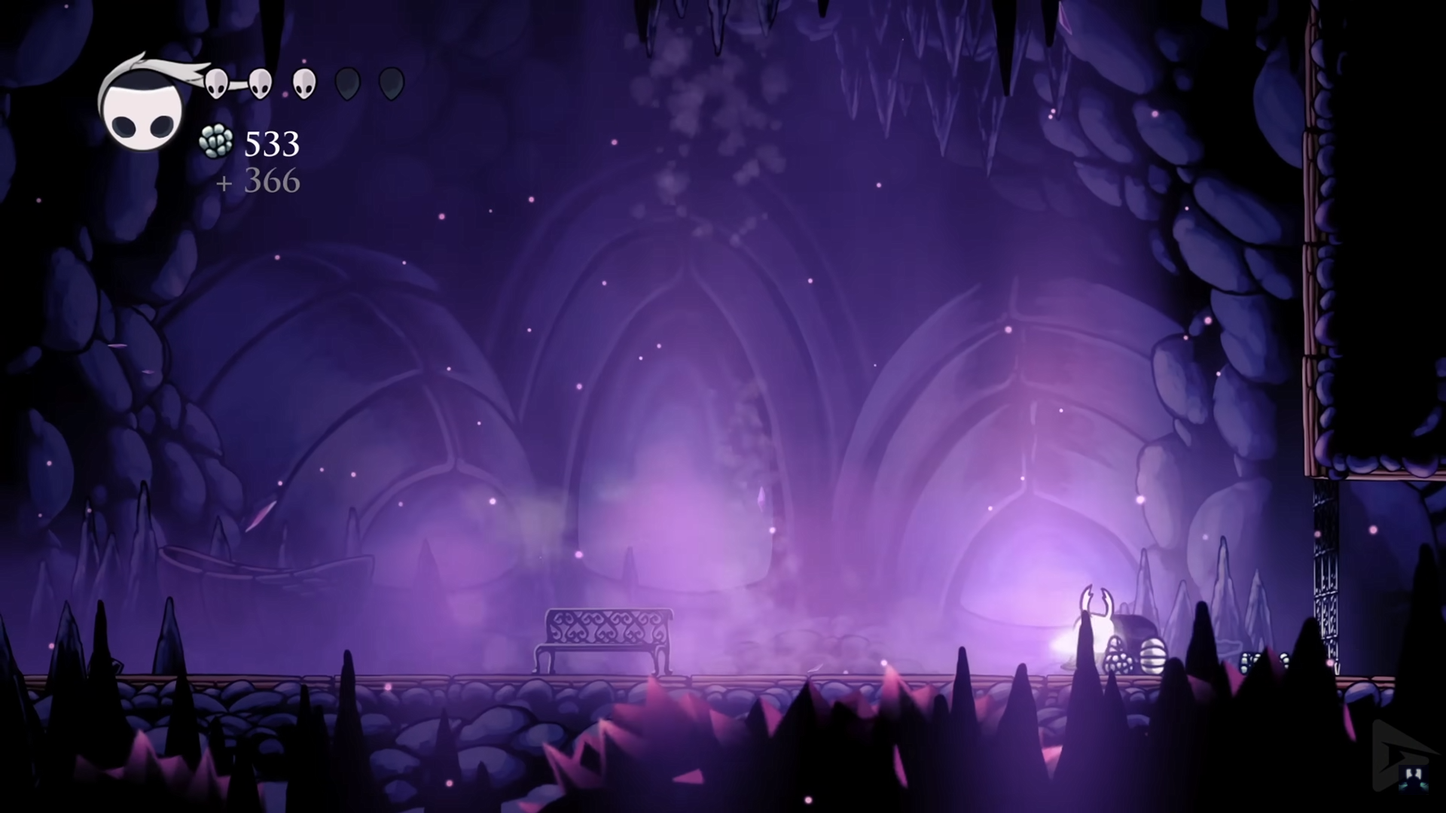HK: (1067, 582, 1121, 675)
